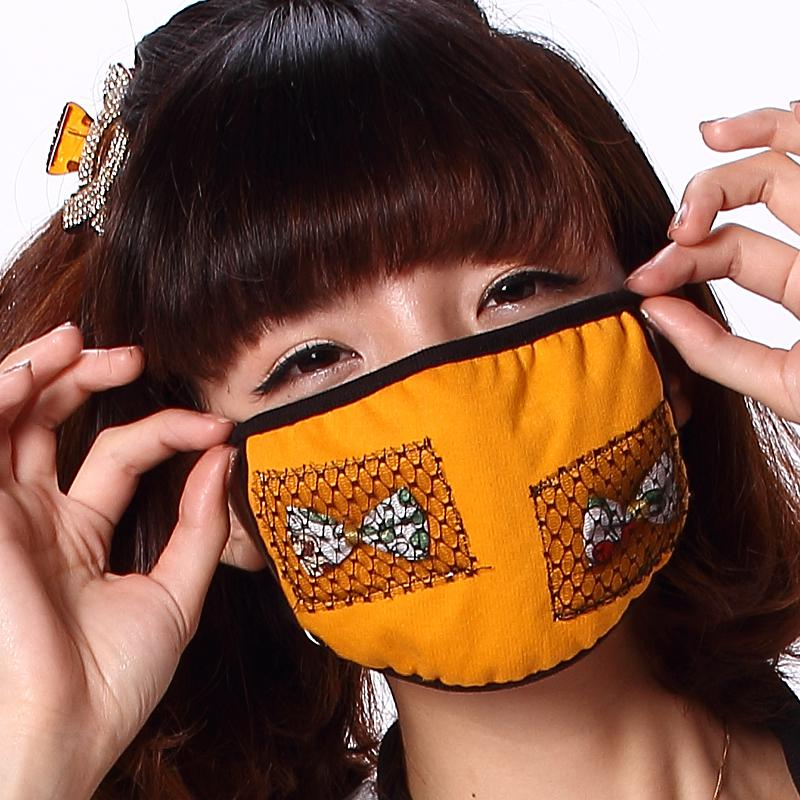OK: (187, 162, 712, 687)
